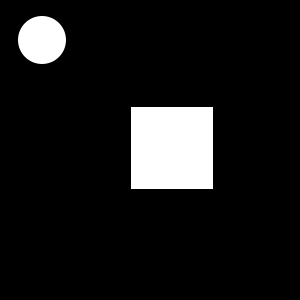circle: (131, 107, 213, 189)
rectangle: (18, 16, 66, 64)
